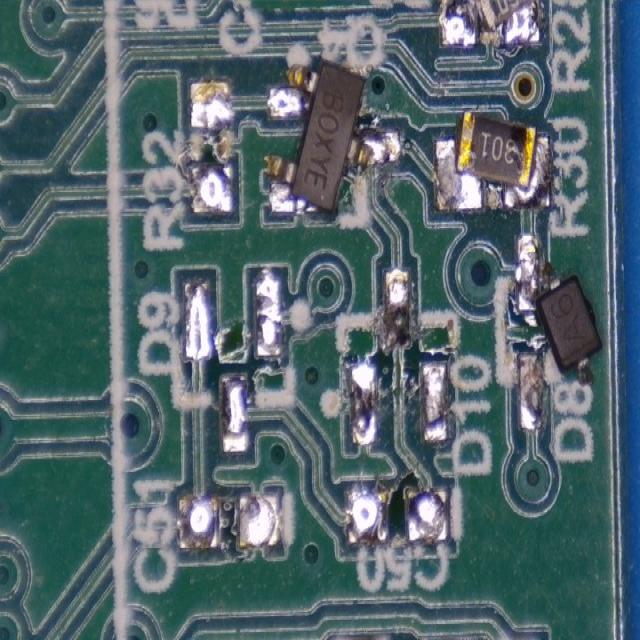Incorrect_installation: (265, 60, 401, 214), (516, 235, 604, 387), (433, 110, 552, 209), (440, 0, 541, 48)
